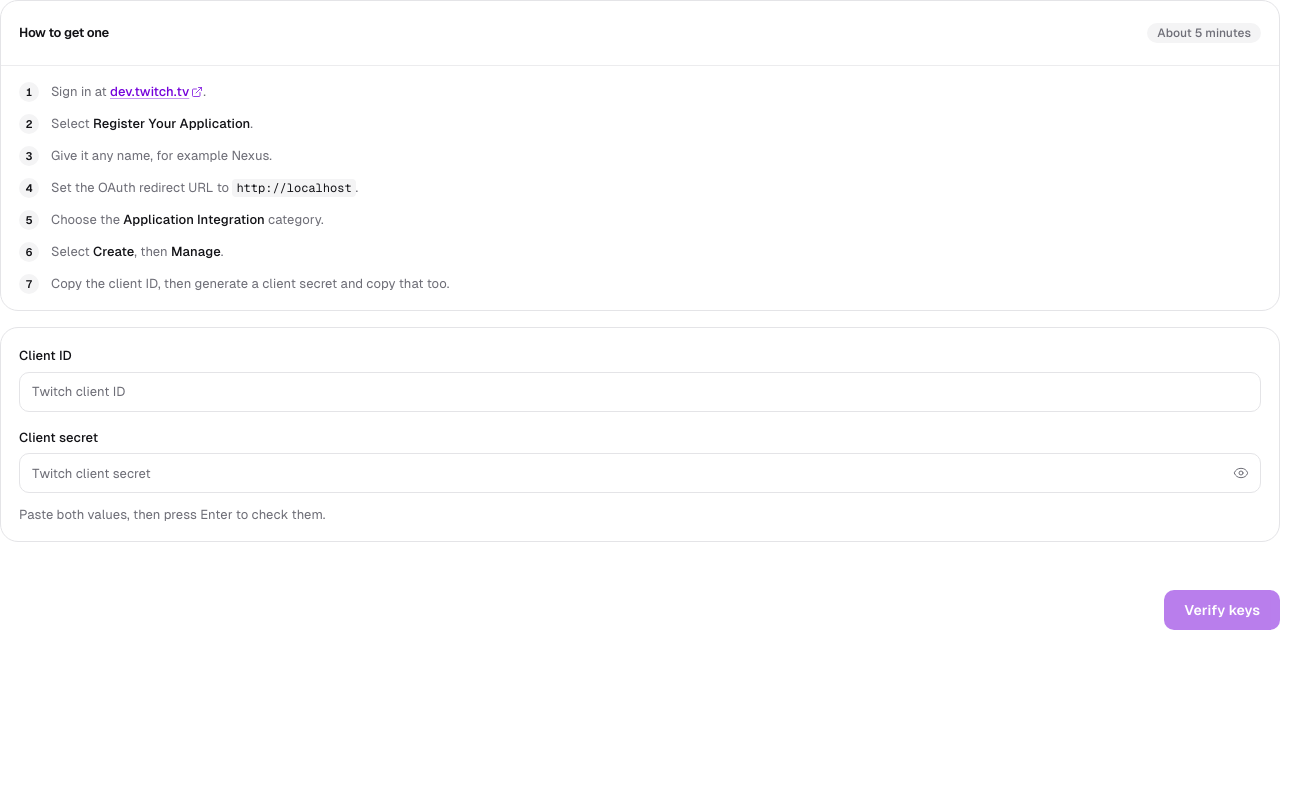
Story 9.3: IGDBStep › explains a rejected client ID in plain English
Type "x" into the field with test id "igdb-client-id-input" at (640, 392), box x1=19 y1=372 x2=1261 y2=412
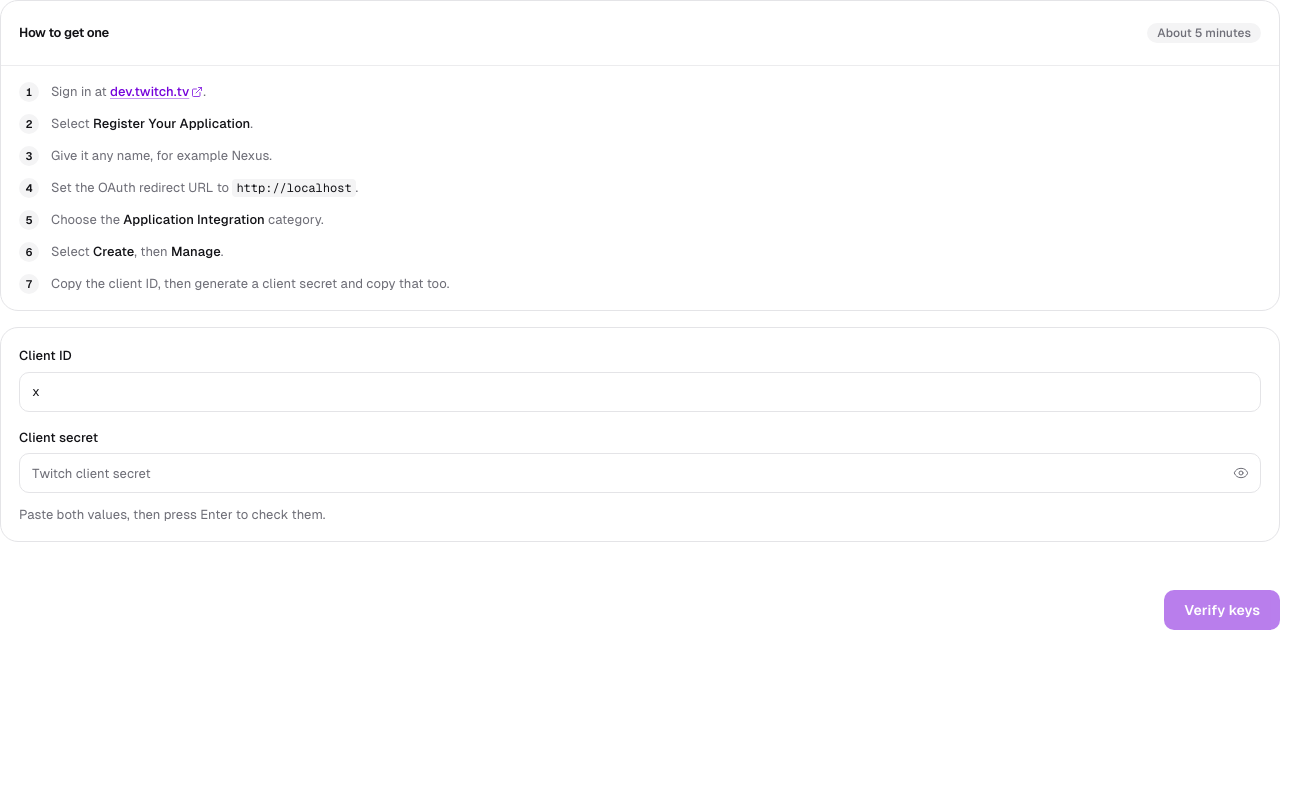
Type "y" into the password field with test id "igdb-client-secret-input" at (640, 473), box x1=19 y1=453 x2=1261 y2=493
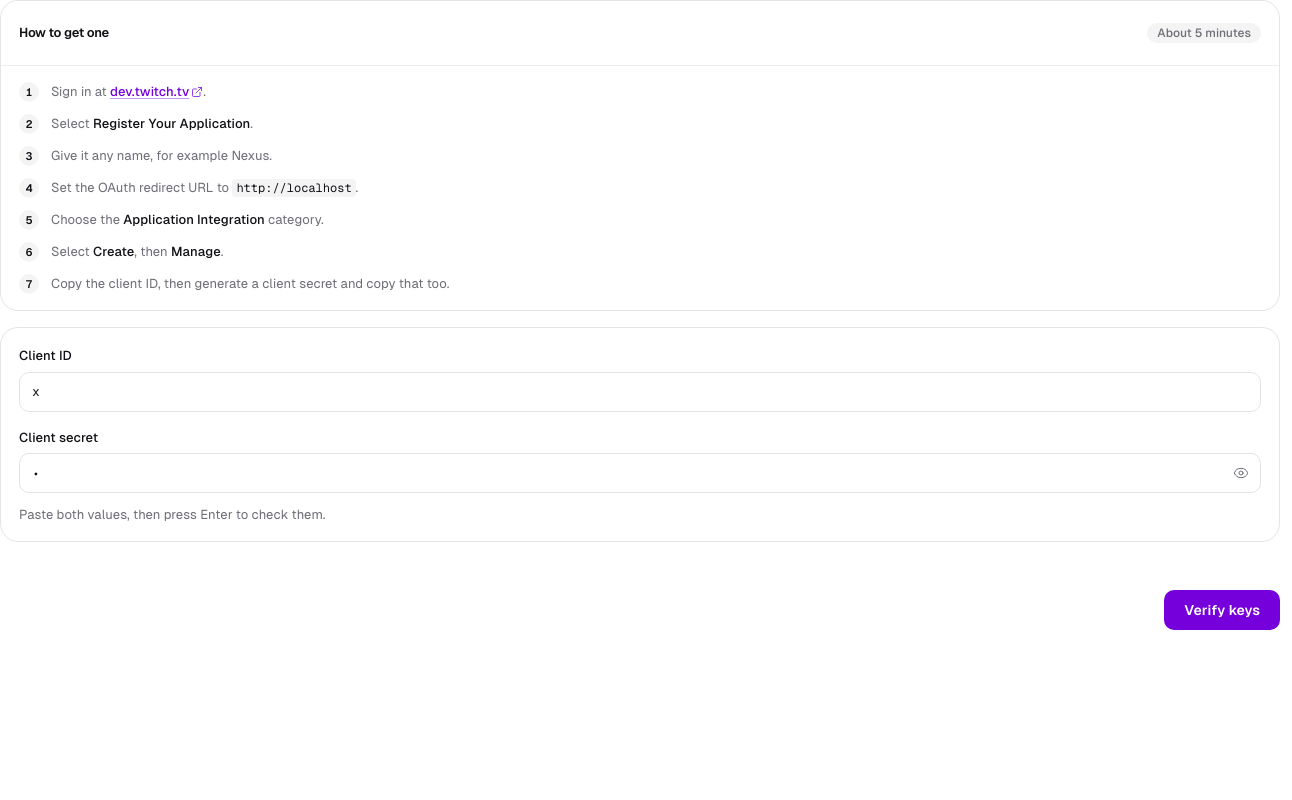
Click the button with test id "igdb-next" at (1222, 610), box x1=1164 y1=590 x2=1280 y2=630
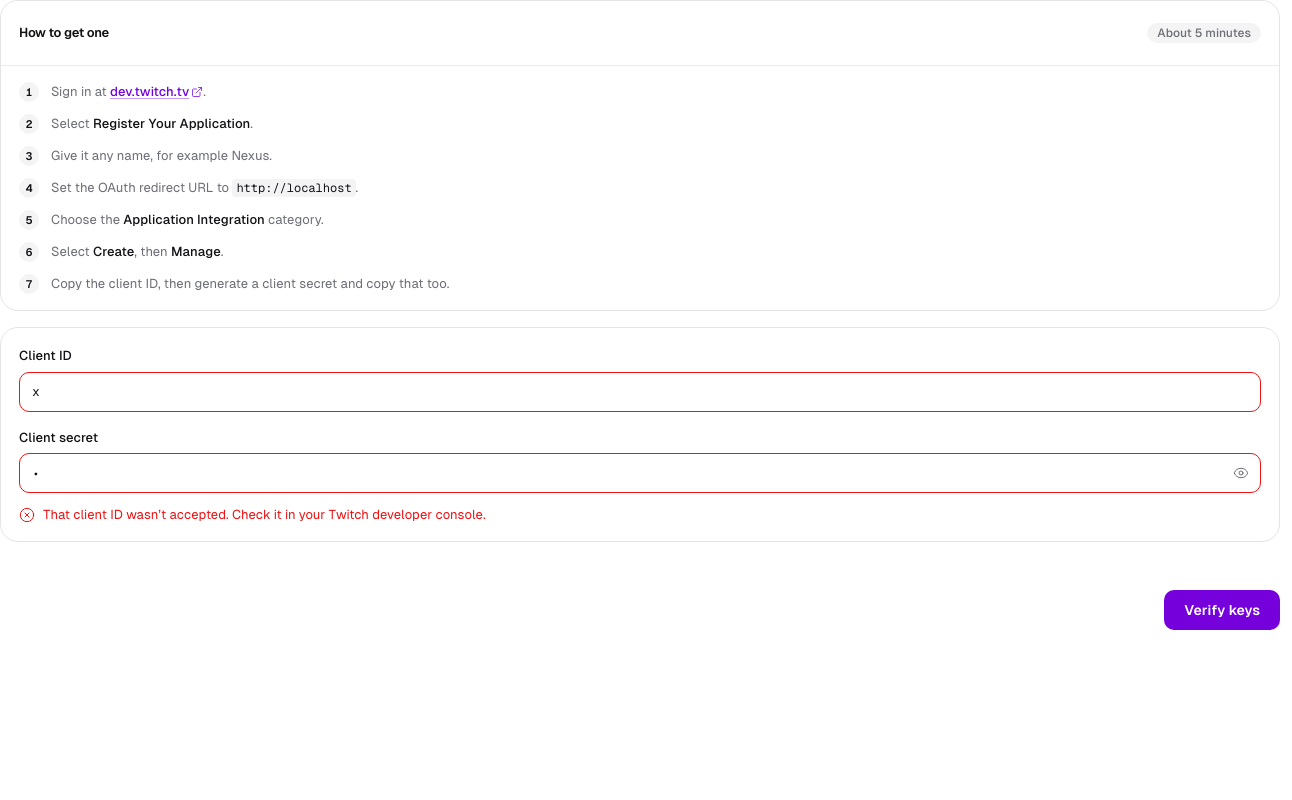
Expected: the text with test id "igdb-key-area-error" shows "client ID wasn’t accepted", x1=43 y1=507 x2=486 y2=522
